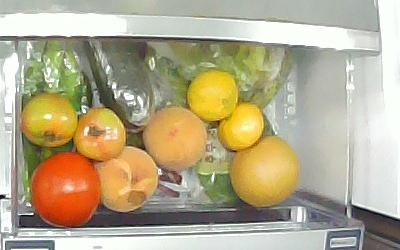peach: (89, 144, 159, 212), (141, 105, 207, 171)
pear: (227, 134, 299, 207)
tangerine: (185, 68, 238, 121), (215, 100, 265, 150)
tomato: (28, 151, 100, 226), (18, 91, 77, 147), (71, 105, 126, 161)
